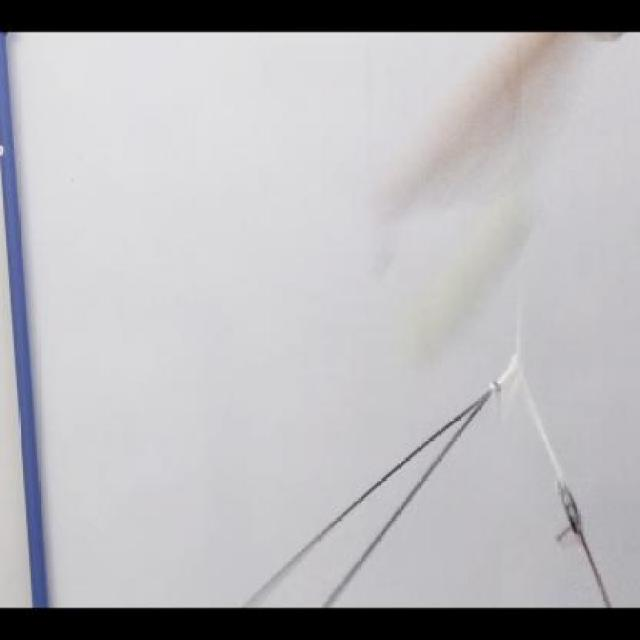baseball: (396, 180, 536, 372)
